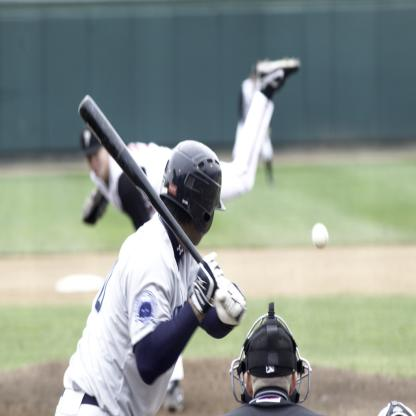Helmet: (227, 302, 313, 407), (160, 146, 224, 247)
